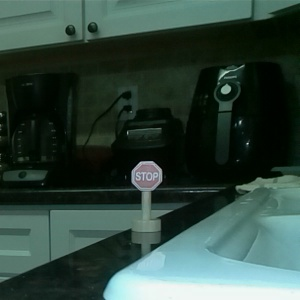stop sign: (128, 158, 165, 236)
